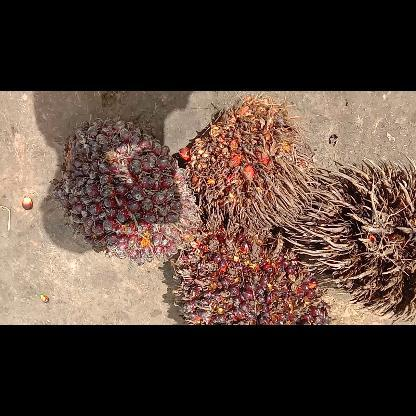Janjang kosong: (276, 155, 414, 322)
Kurang masak: (52, 113, 206, 263)
TBS masak: (169, 235, 332, 322)
Terlalu masak: (178, 93, 322, 239)
